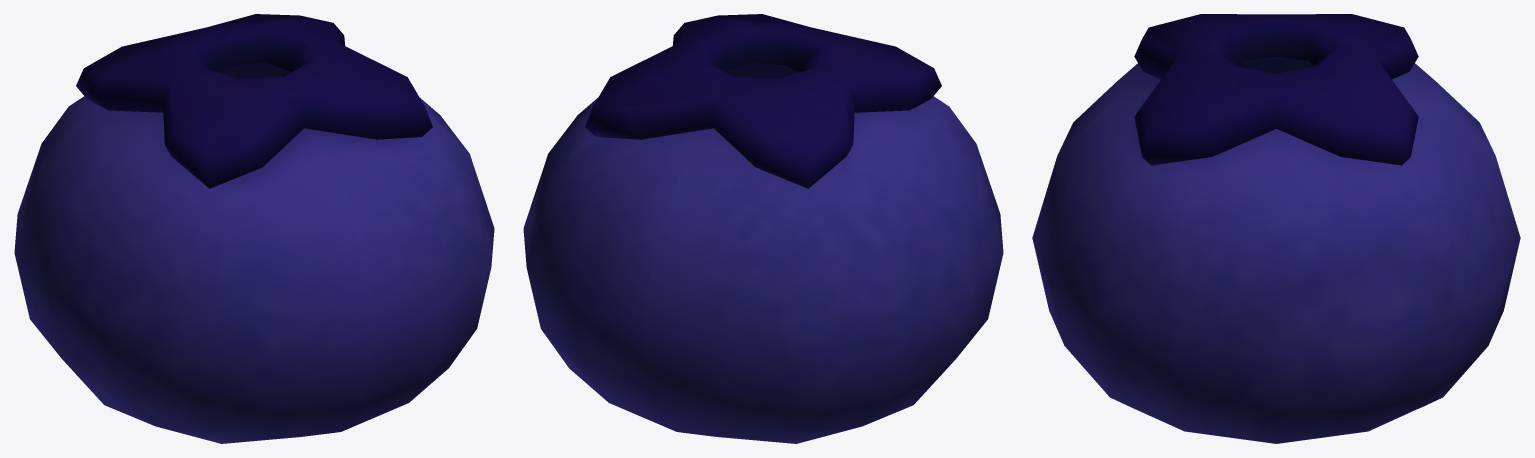
Rendered from blueberry.glb.
3 views of the same model, side by side, from view 1: azimuth 30°, elevation 25°; view 2: azimuth 150°, elevation 25°; view 3: azimuth 270°, elevation 25° (orthographic). The views are drawn at different scales.
Visible parts, largest first — view 1: geometry_0; view 2: geometry_0; view 3: geometry_0.
Part boxes in pixels (x1=…): geometry_0: x1=14, y1=14, x2=494, y2=443; geometry_0: x1=523, y1=14, x2=1003, y2=443; geometry_0: x1=1032, y1=14, x2=1520, y2=443.
Bounding box in the file's own units: 2.16 × 1.79 × 2.16.
1 material, 1 textured.
